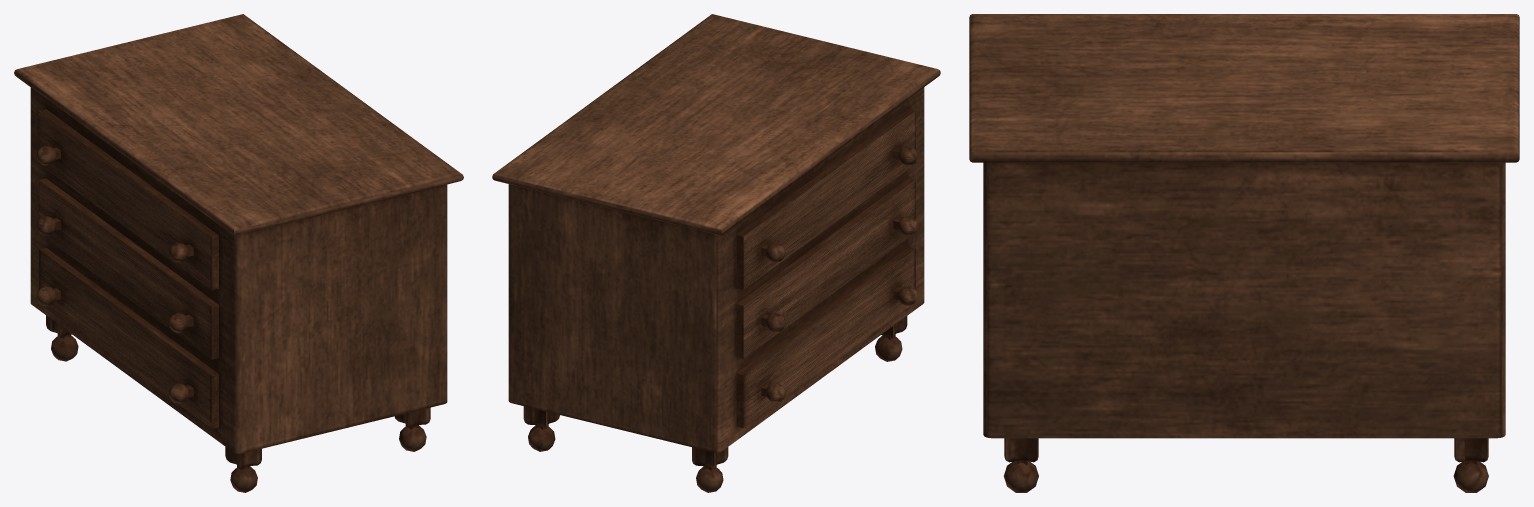
The model's file is bedside_wood_table.glb.
The picture shows the model from 3 angles, left to right: view 1: azimuth 30°, elevation 25°; view 2: azimuth 150°, elevation 25°; view 3: azimuth 270°, elevation 25°; orthographic projection. The views are drawn at different scales.
Parts seen in each view (by area): view 1: Cube, Cube.001, Cube.003, Cube.002, Cube.004; view 2: Cube, Cube.001, Cube.002, Cube.003, Cube.004; view 3: Cube, Cube.004.
Part boxes in pixels (x1=…): Cube: x1=14, y1=14, x2=463, y2=453; Cube.001: x1=36, y1=247, x2=218, y2=428; Cube.003: x1=36, y1=178, x2=218, y2=359; Cube.002: x1=36, y1=109, x2=218, y2=290; Cube.004: x1=46, y1=315, x2=430, y2=492; Cube: x1=492, y1=14, x2=940, y2=452; Cube.001: x1=736, y1=247, x2=917, y2=427; Cube.002: x1=736, y1=109, x2=917, y2=289; Cube.003: x1=736, y1=178, x2=917, y2=358; Cube.004: x1=523, y1=316, x2=907, y2=492; Cube: x1=969, y1=14, x2=1519, y2=438; Cube.004: x1=1003, y1=438, x2=1488, y2=492.
Size of the model in its own units: 2.34 by 2.57 by 3.57.
1 material, 1 textured.
